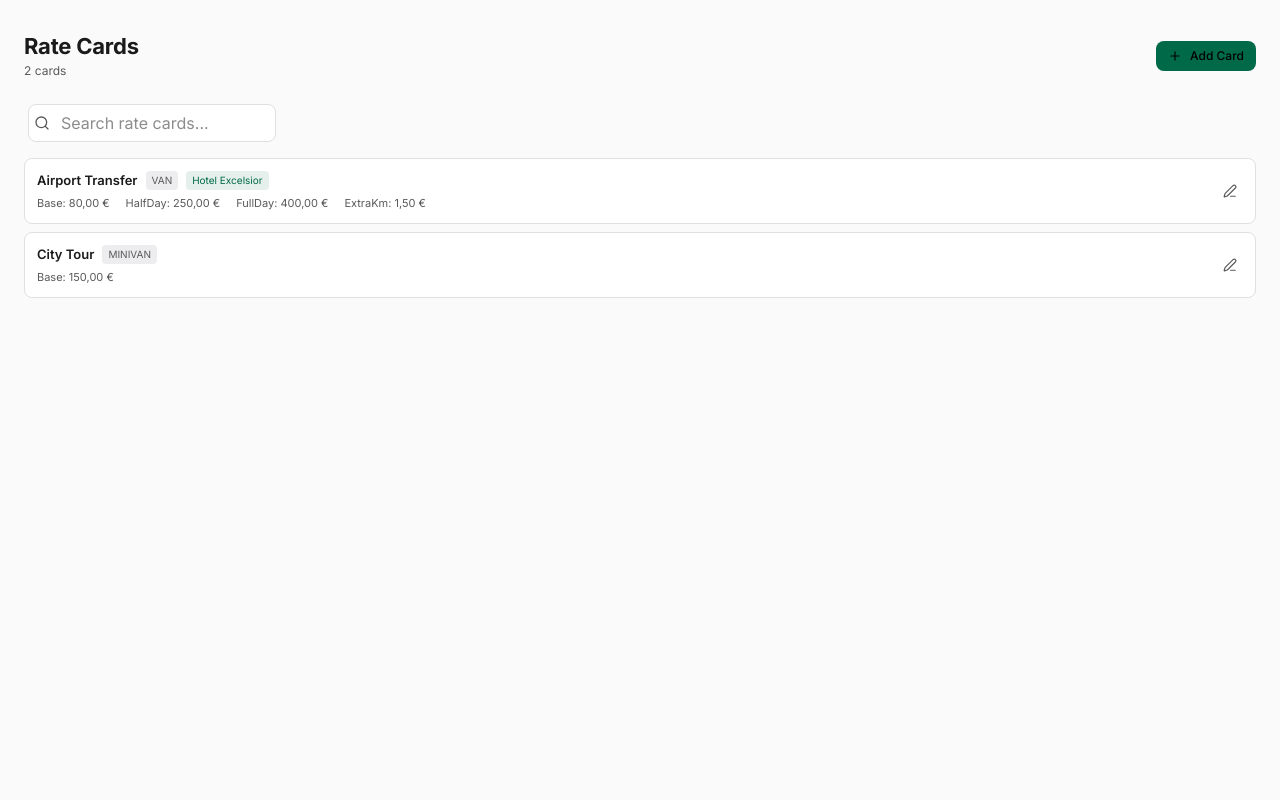
Test: RateCardScreen › opens edit modal for existing rate card
The width and height of the screenshot is (1280, 800).
Check: the text "Airport Transfer" is shown, box x1=37 y1=171 x2=138 y2=190
Click the button titled "Edit" in the row of "1,50 €": coordinates (1230, 191) x1=1217 y1=178 x2=1243 y2=204
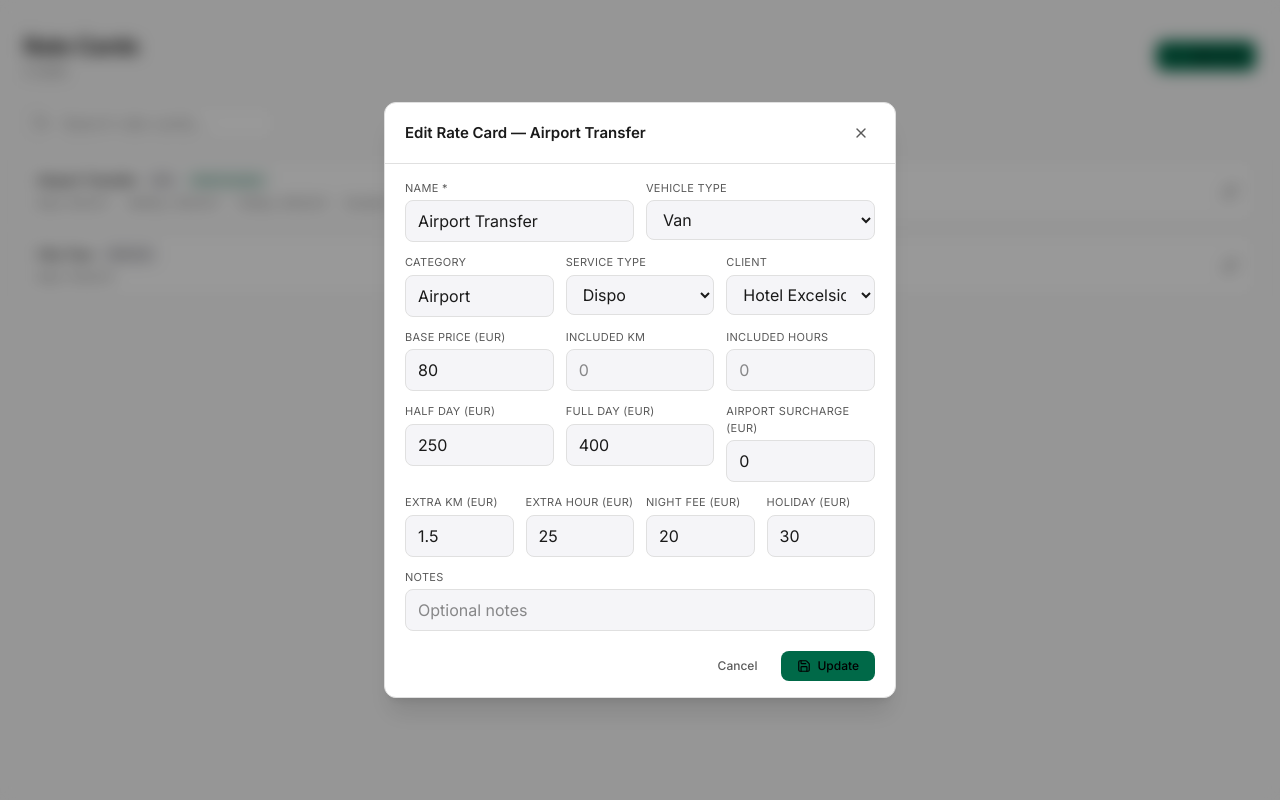
Check: the heading "Edit Rate Card — Airport Transfer" is shown, box x1=405 y1=122 x2=646 y2=144
Check: the button "Update" is shown, box x1=781 y1=651 x2=875 y2=681
